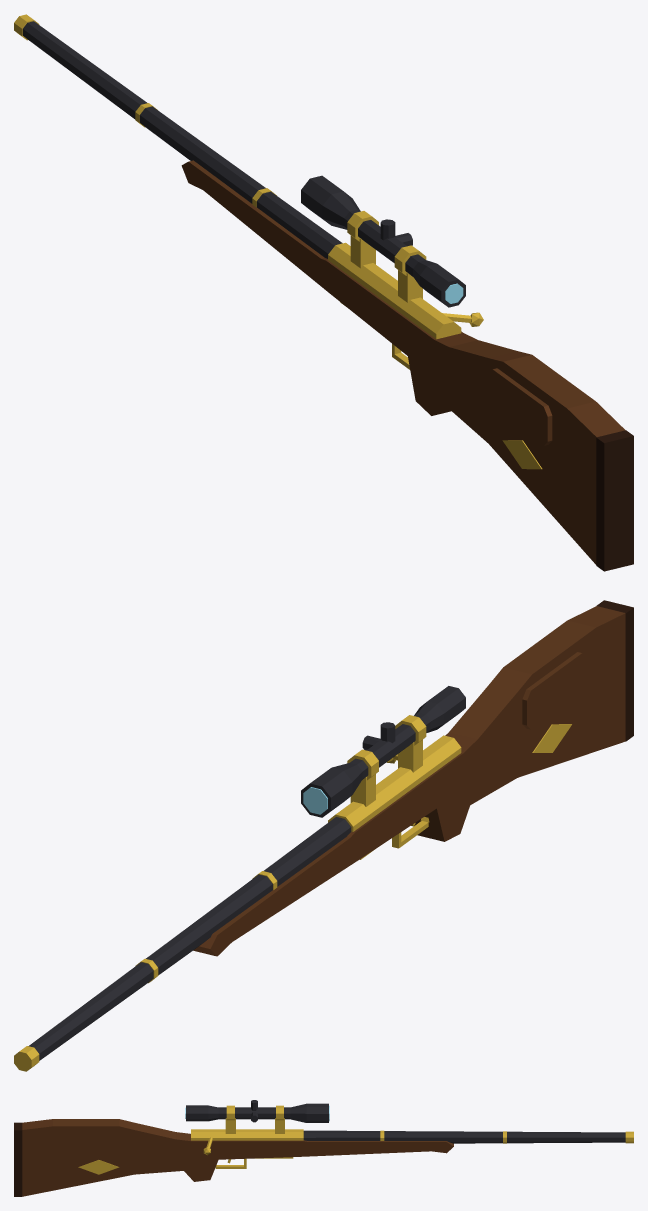
The model's file is Royal.obj.
3 views of the same model, one above another, from view 1: azimuth 30°, elevation 25°; view 2: azimuth 150°, elevation 25°; view 3: azimuth 270°, elevation 25° (orthographic). The views are drawn at different scales.
Parts seen in each view (by area): view 1: Stock, Barrel, Pad, Scope, Body, Mount, Accent; view 2: Stock, Barrel, Scope, Body, Mount, Pad, Accent; view 3: Stock, Barrel, Scope, Body, Pad, Mount, Accent.
Boxes of the visible parts, x1,y1,x2,y2 form: Stock: [181, 160, 625, 564]; Barrel: [22, 21, 342, 258]; Pad: [596, 430, 633, 571]; Scope: [301, 175, 465, 307]; Body: [328, 242, 461, 339]; Mount: [347, 211, 426, 302]; Accent: [135, 103, 542, 469]; Stock: [193, 606, 625, 956]; Barrel: [28, 817, 351, 1060]; Scope: [301, 686, 465, 817]; Body: [328, 735, 461, 831]; Mount: [347, 715, 426, 806]; Pad: [596, 600, 633, 741]; Accent: [135, 724, 571, 983]; Stock: [22, 1119, 453, 1196]; Barrel: [303, 1130, 625, 1143]; Scope: [186, 1100, 328, 1122]; Body: [191, 1129, 303, 1140]; Pad: [14, 1122, 22, 1196]; Mount: [225, 1105, 284, 1133]; Accent: [78, 1130, 506, 1174].
Size of the model in its own units: 0.3987 by 0.988 by 6.06.
